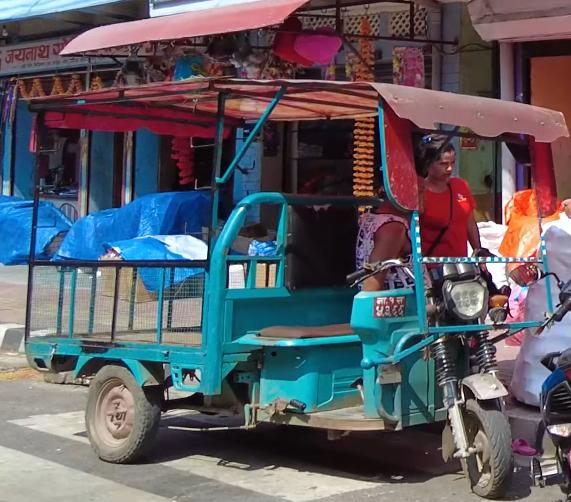e-rickshaw: (17, 64, 555, 501)
